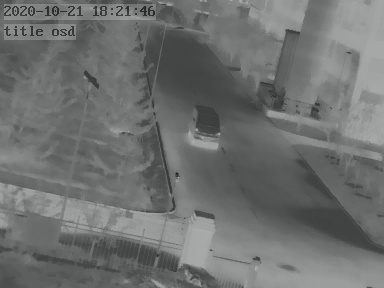vehicle: (184, 104, 219, 148)
